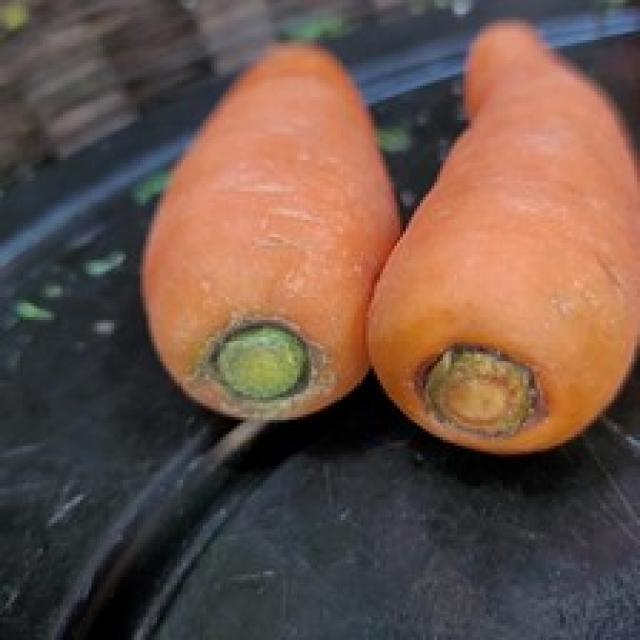carrot: (375, 22, 640, 459), (143, 39, 390, 418)
